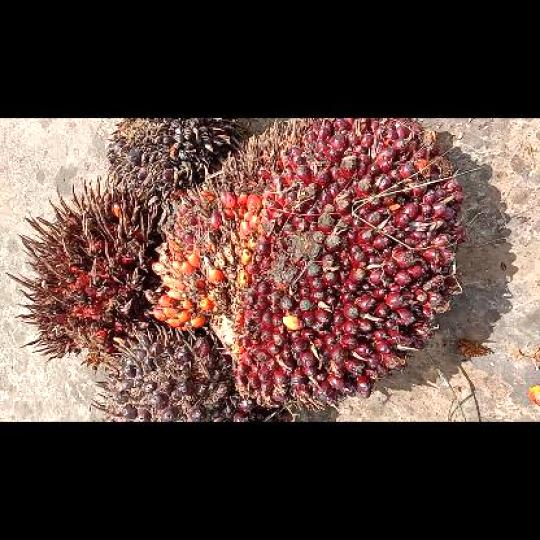kurang masak: (94, 325, 295, 420)
masak: (143, 118, 465, 404)
terlalu masak: (7, 176, 157, 367)
